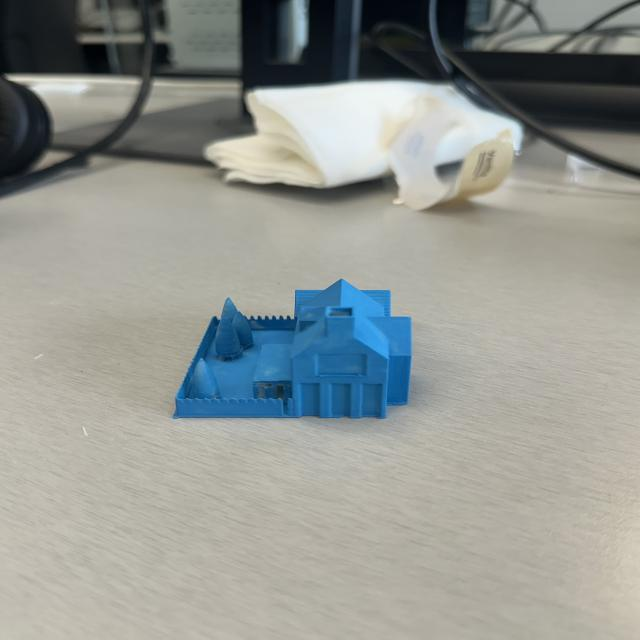house: (172, 278, 416, 424)
